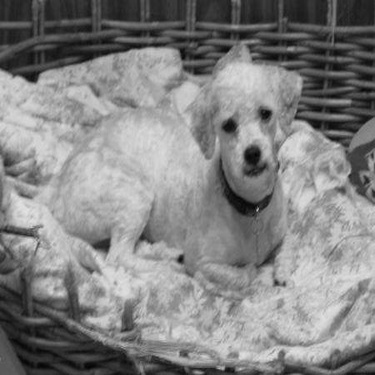dog: (34, 31, 319, 306)
